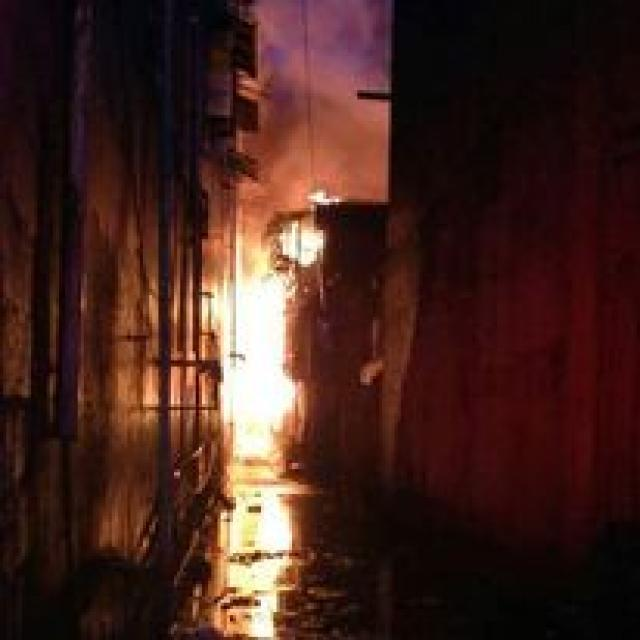Fire: (221, 182, 340, 458)
Smoke: (238, 90, 390, 242)
